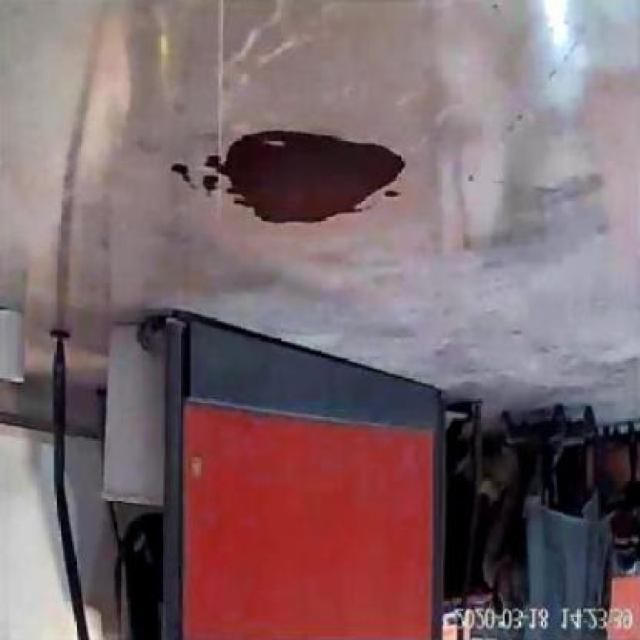spillage: (179, 120, 412, 224)
